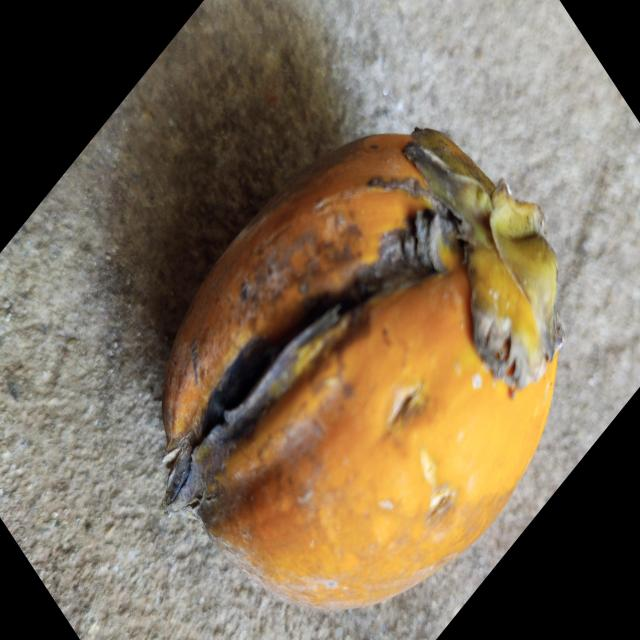damaged: (162, 129, 562, 608)
